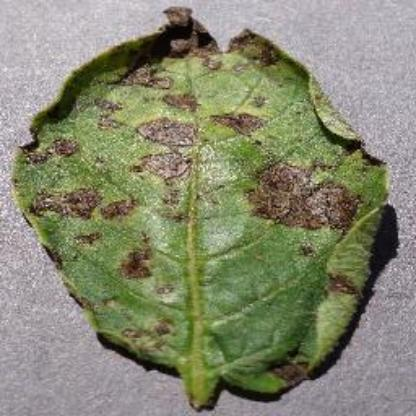Early-Blight: (12, 6, 390, 408)
